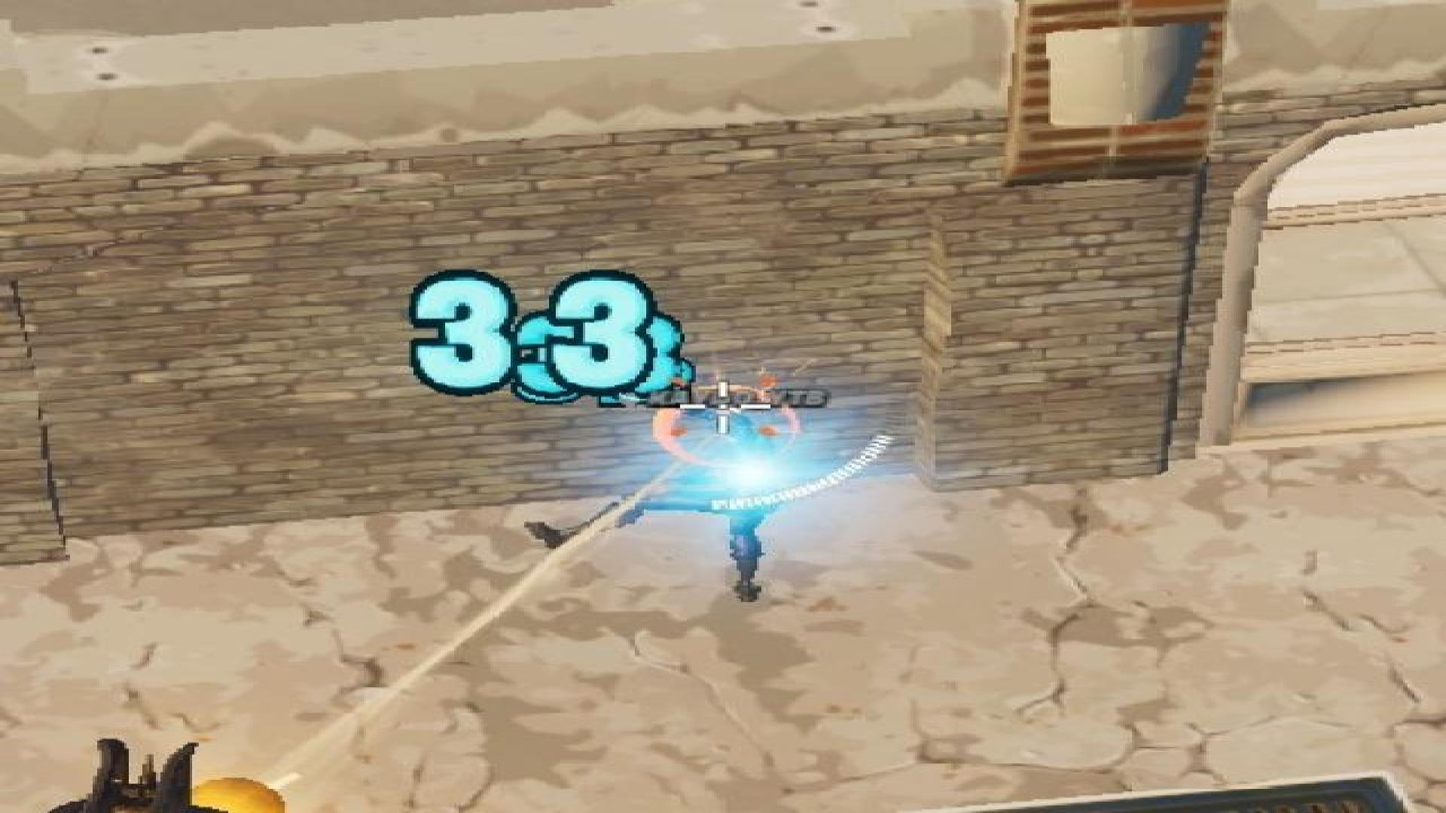player: (542, 432, 786, 602)
